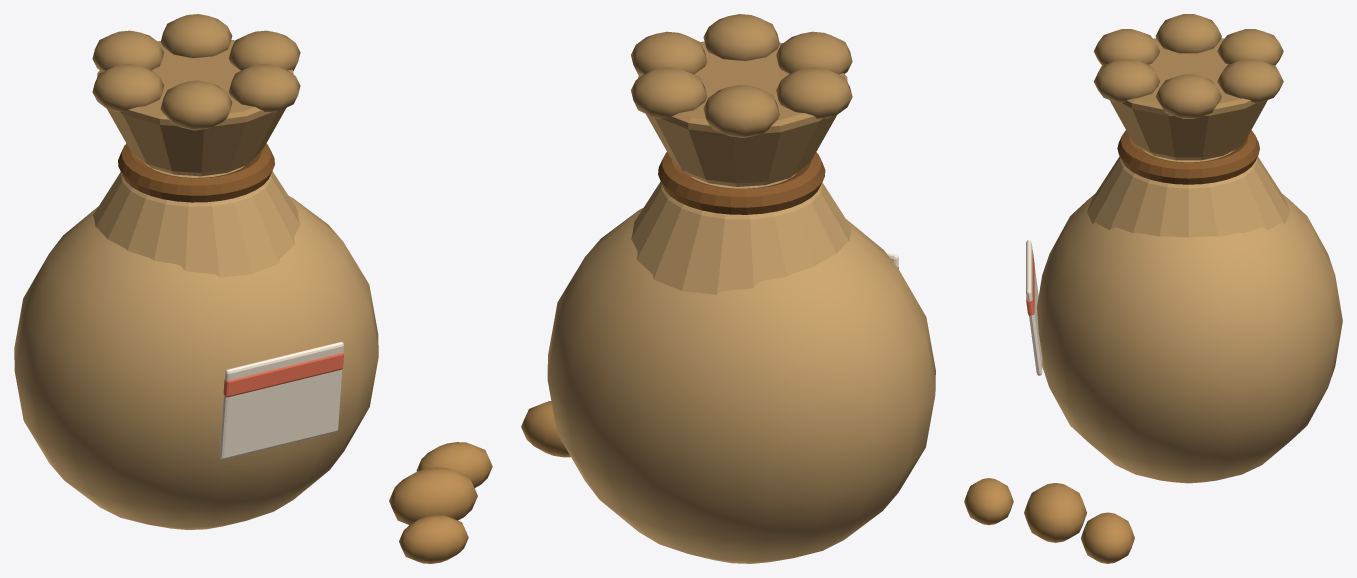
Rendered from potato_sack.glb.
The picture shows the model from 3 angles, left to right: view 1: azimuth 30°, elevation 25°; view 2: azimuth 150°, elevation 25°; view 3: azimuth 270°, elevation 25°; orthographic projection. The views are drawn at different scales.
Visible parts, largest first — view 1: belly, upper, gather, label, rope, potato0, lump4, lump3, lump5, potato2, lump1, lump2 (+3 smaller); view 2: belly, upper, gather, rope, lump2, lump1, lump3, lump5, lump4, lump0, potato1; view 3: belly, upper, gather, rope, potato0, lump0, lump1, lump5, potato1, lump3, lump4, lump2 (+2 smaller).
Part boxes in pixels (x1,y1,x2,y2): belly: [14, 196, 378, 529]; upper: [93, 163, 299, 277]; gather: [97, 40, 293, 176]; label: [219, 342, 343, 459]; rope: [118, 143, 274, 202]; potato0: [389, 467, 477, 524]; lump4: [160, 80, 232, 130]; lump3: [92, 64, 164, 112]; lump5: [229, 64, 300, 112]; potato2: [399, 515, 468, 563]; lump1: [160, 14, 232, 57]; lump2: [92, 30, 164, 70]; belly: [547, 208, 935, 563]; upper: [631, 173, 851, 294]; gather: [638, 41, 847, 186]; rope: [658, 152, 825, 214]; lump2: [703, 85, 779, 137]; lump1: [631, 67, 707, 118]; lump3: [776, 67, 852, 118]; lump5: [703, 14, 779, 60]; lump4: [776, 31, 852, 74]; lump0: [631, 31, 707, 74]; potato1: [521, 401, 570, 457]; belly: [1037, 193, 1342, 483]; upper: [1087, 150, 1290, 237]; gather: [1098, 38, 1278, 160]; rope: [1117, 130, 1259, 184]; potato0: [1024, 483, 1086, 542]; lump0: [1155, 74, 1221, 118]; lump1: [1217, 59, 1283, 103]; lump5: [1093, 59, 1159, 103]; potato1: [1081, 512, 1134, 563]; lump3: [1155, 14, 1221, 53]; lump4: [1093, 29, 1159, 65]; lump2: [1217, 29, 1283, 65].
Size of the model in its own units: 0.908 by 0.974 by 0.7963.
